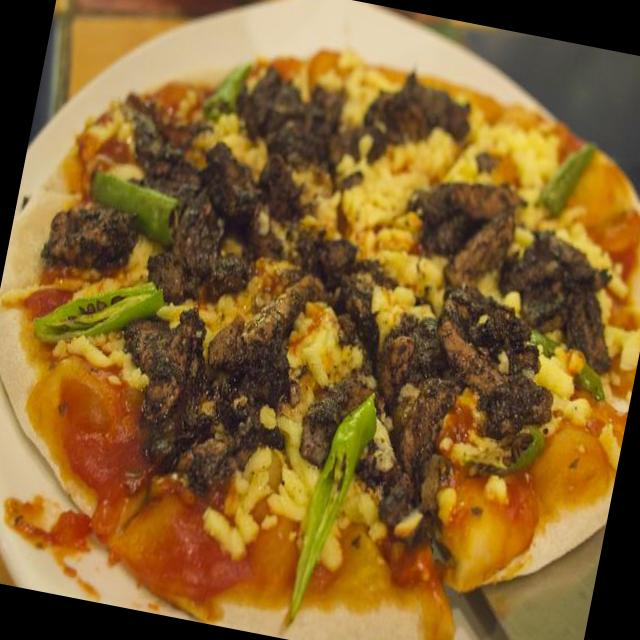knife: (440, 584, 556, 640)
pizza: (0, 0, 640, 640)
